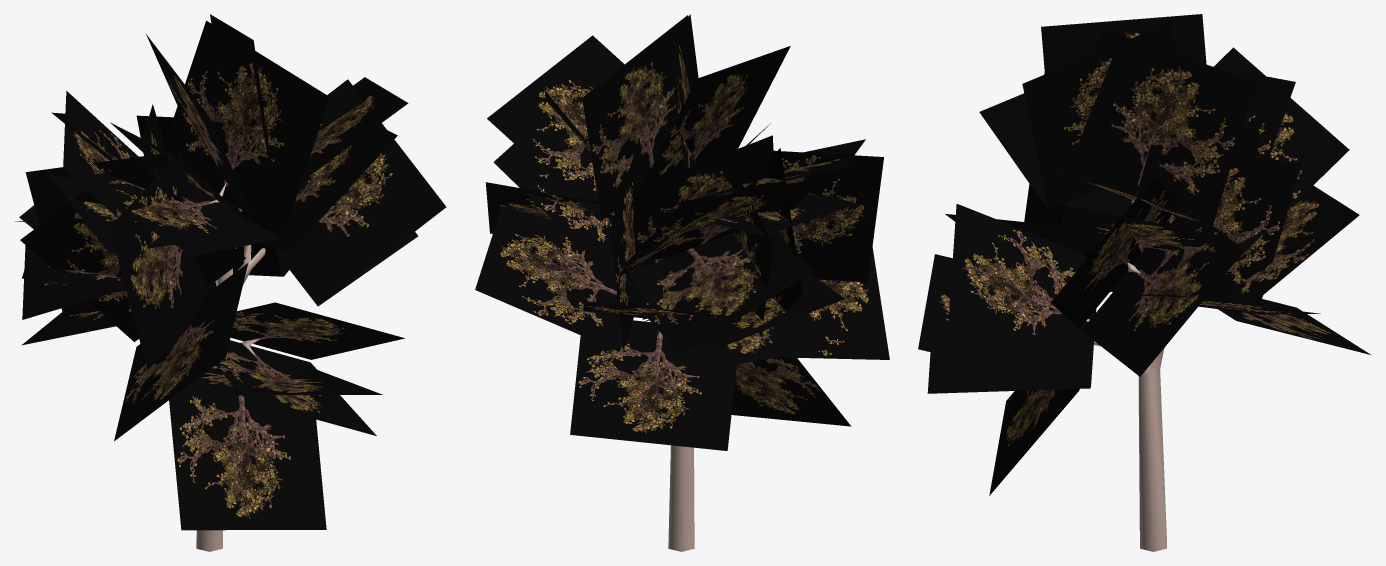
File: tree20.glb
3 renders of one model, left to right at view 1: azimuth 30°, elevation 25°; view 2: azimuth 150°, elevation 25°; view 3: azimuth 270°, elevation 25°, orthographic. The views are drawn at different scales.
Size of the model in its own units: 5.42 by 7.08 by 5.53.
2 materials, 1 textured.
